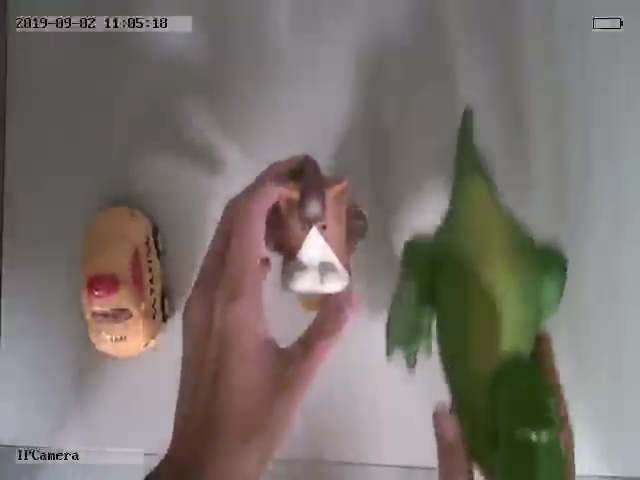car: (81, 202, 175, 357)
